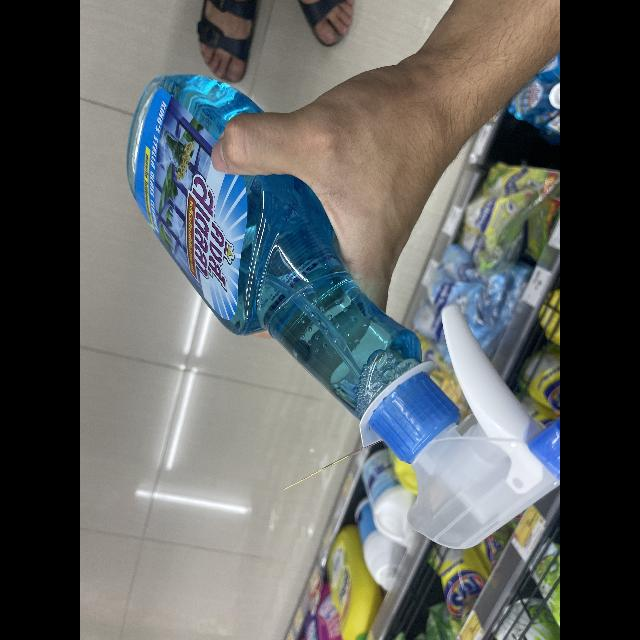chemical_plastic_bottle: (118, 59, 560, 558)
